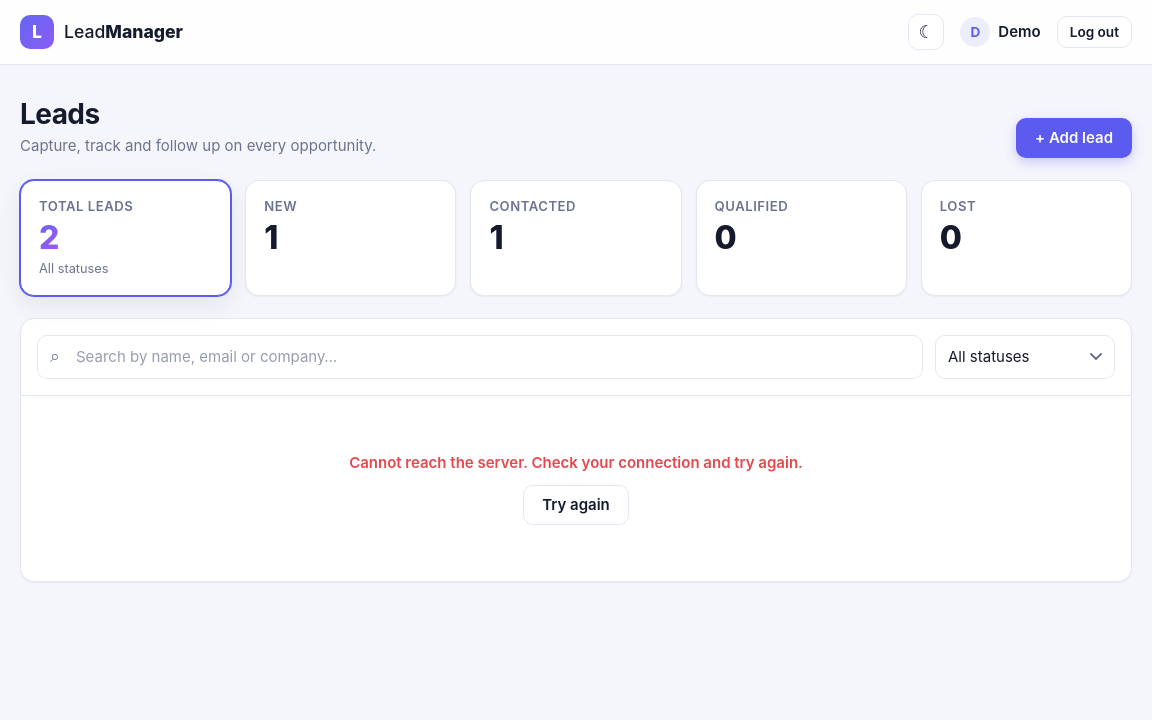
Test: LeadsPage › shows an error with a retry button when the API is down
The width and height of the screenshot is (1152, 720).
Expected: the message shows "Cannot reach the server", [349,453,803,472]
Click the button "Try again". click: point(576, 505)
box: [523,485,629,525]
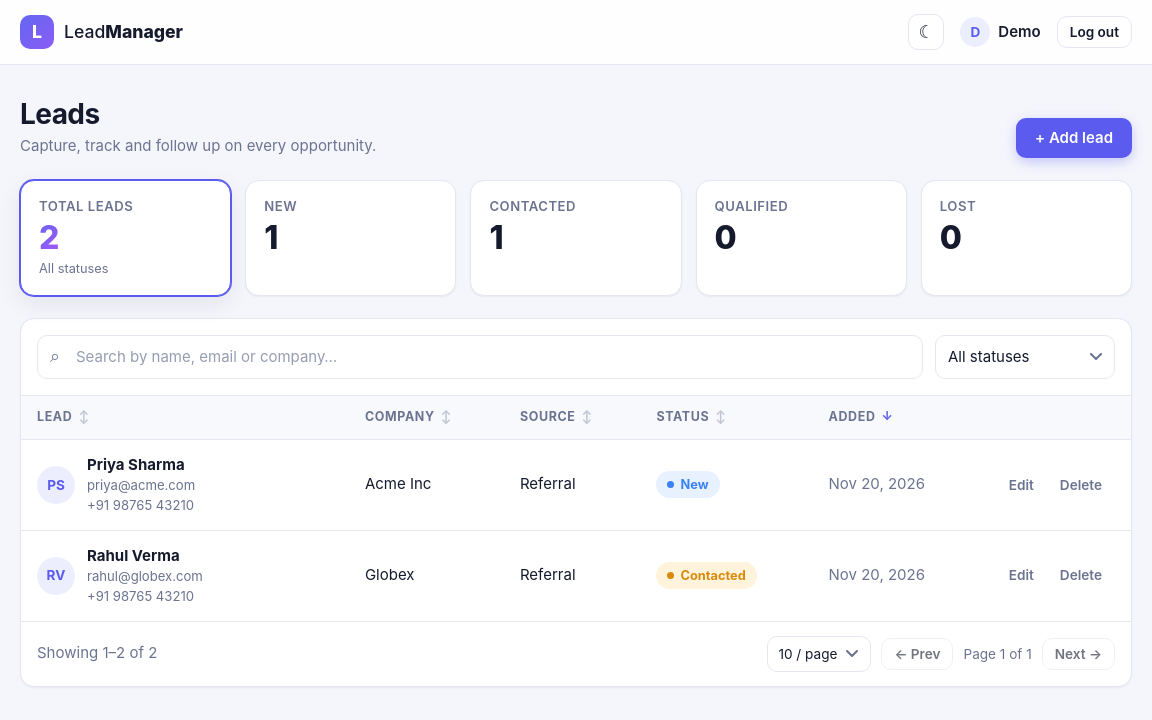
Result: the text "Priya Sharma" is shown at [87,454,195,476]
